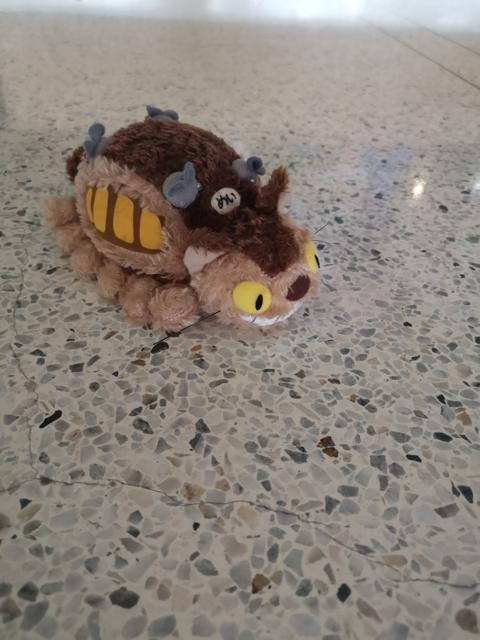nekobus: (39, 101, 327, 341)
